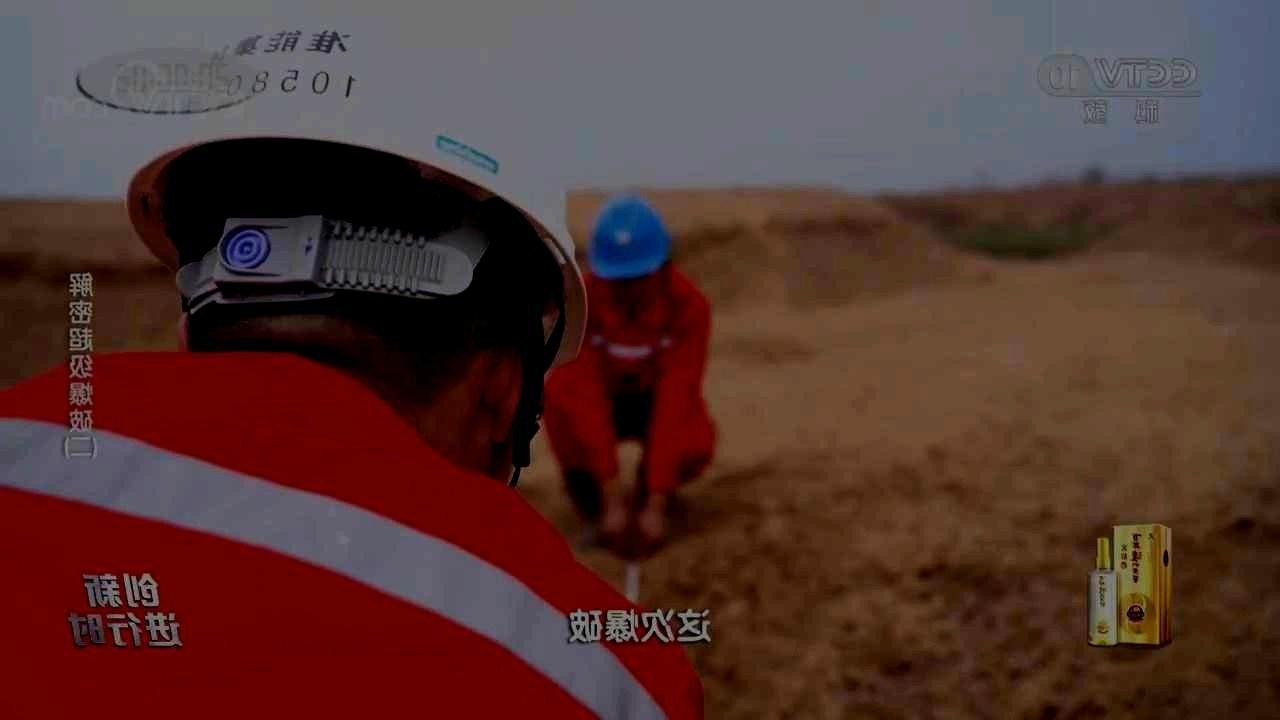helmet: (125, 11, 590, 493), (586, 194, 672, 314)
